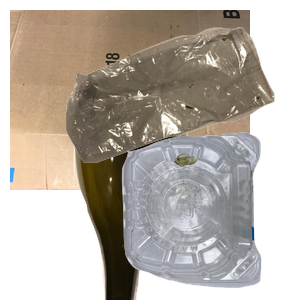cardboard: (10, 10, 250, 190)
glass: (71, 120, 254, 300)
plastic: (119, 130, 300, 300)
trash: (63, 24, 300, 179)
